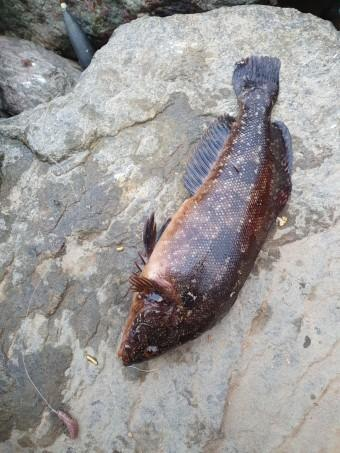fish: (118, 56, 290, 364)
